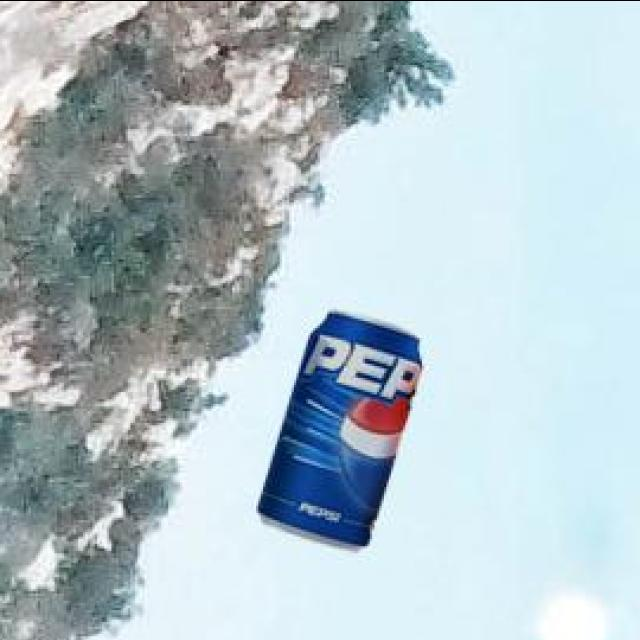logam: (262, 307, 425, 544)
